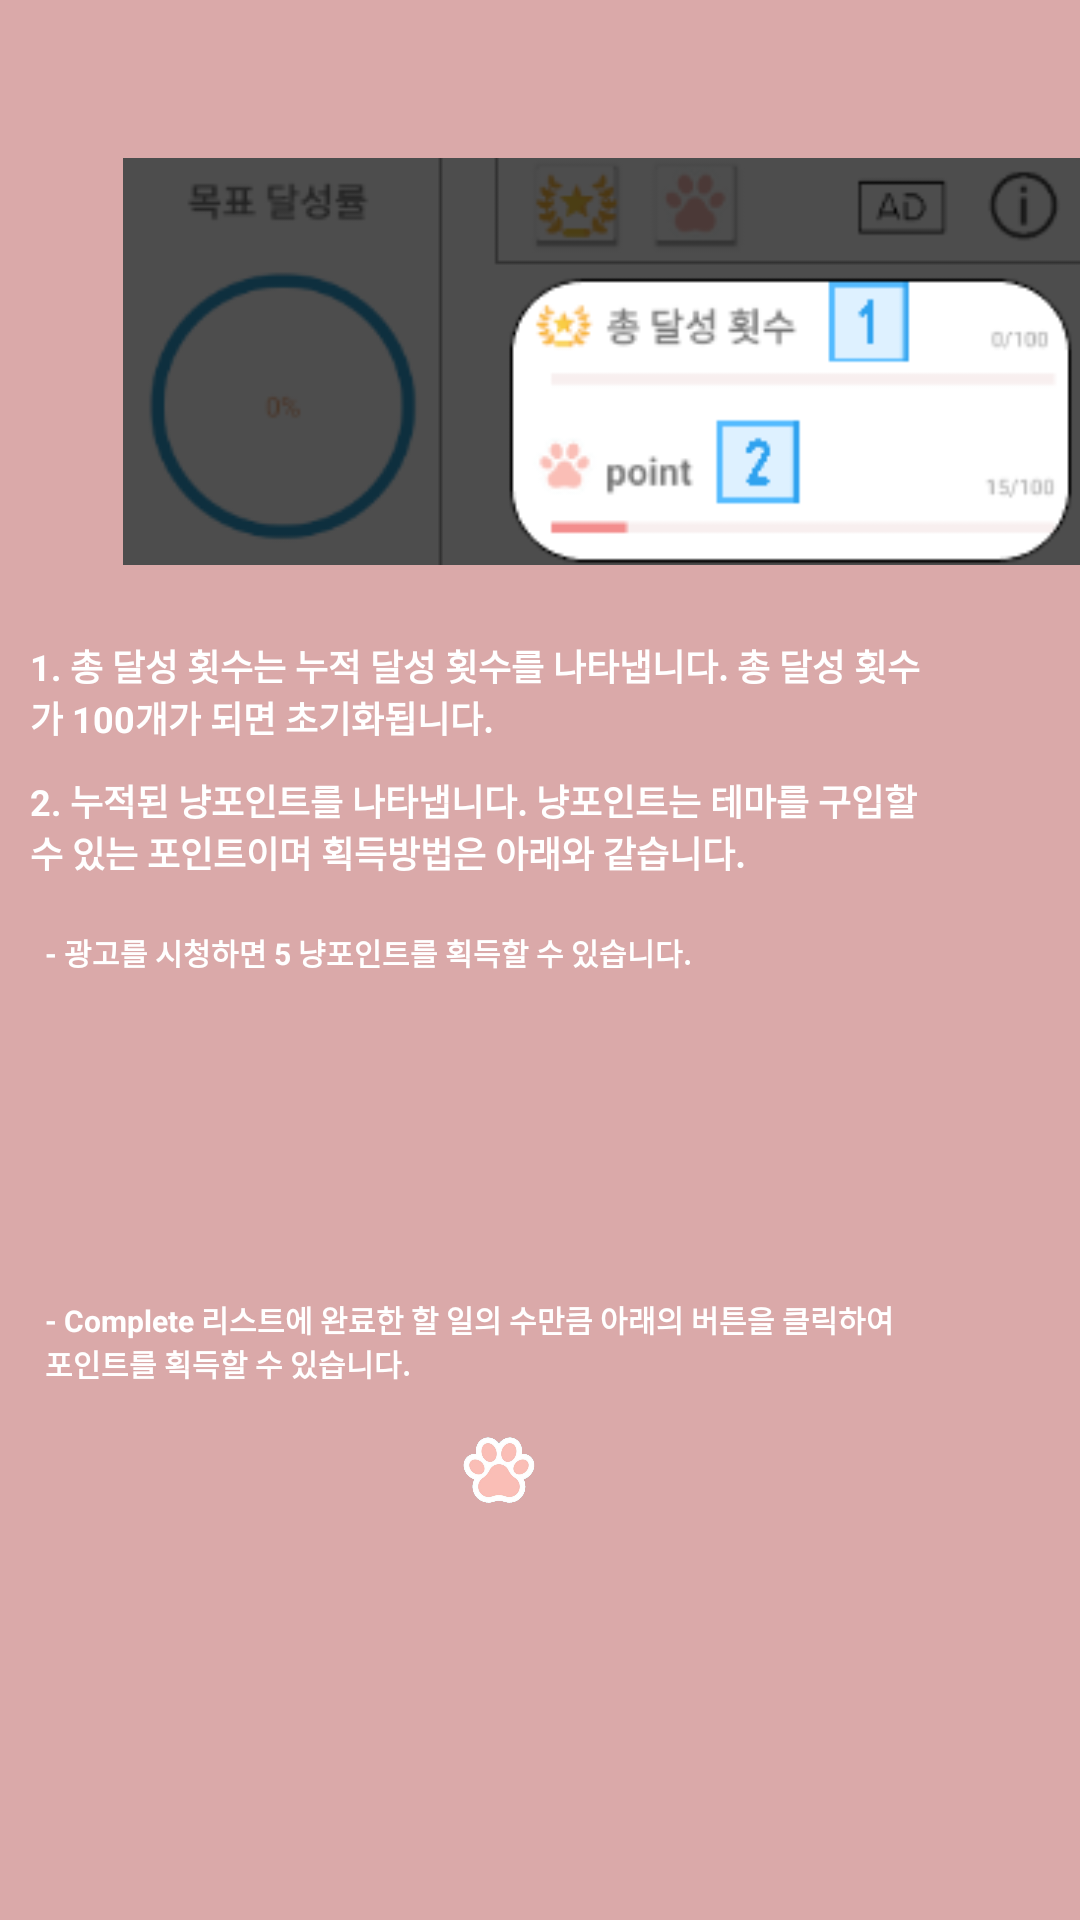

Screen size 1080px x 1920px. Icon name, then its box in pixels as (x1, y1, x2, y2):
cat footprint: (463, 1437, 534, 1503)
